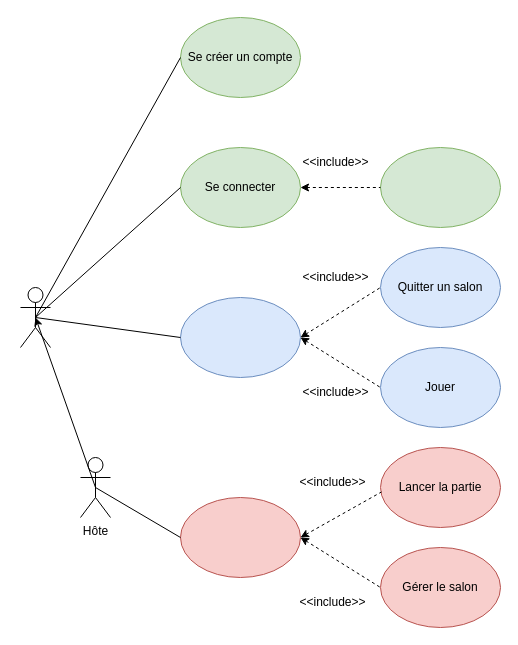
Image size: 518x645. Some labels were removed from this diagram. The shapes that lost their labels are listed below. From the top down, each one's centre as x and y in pixels, then its label:
(440,187): Gérer son compte
(35,317): Joueur
(240,337): Se connecter à un salon
(240,537): Créer un salon
